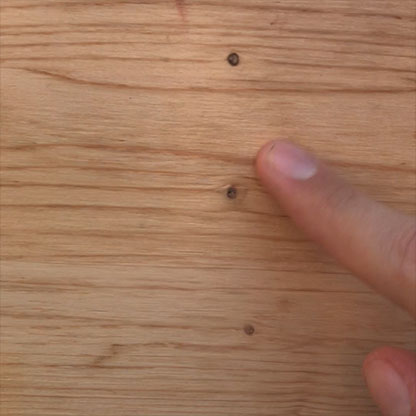fingertip: (245, 118, 325, 202)
